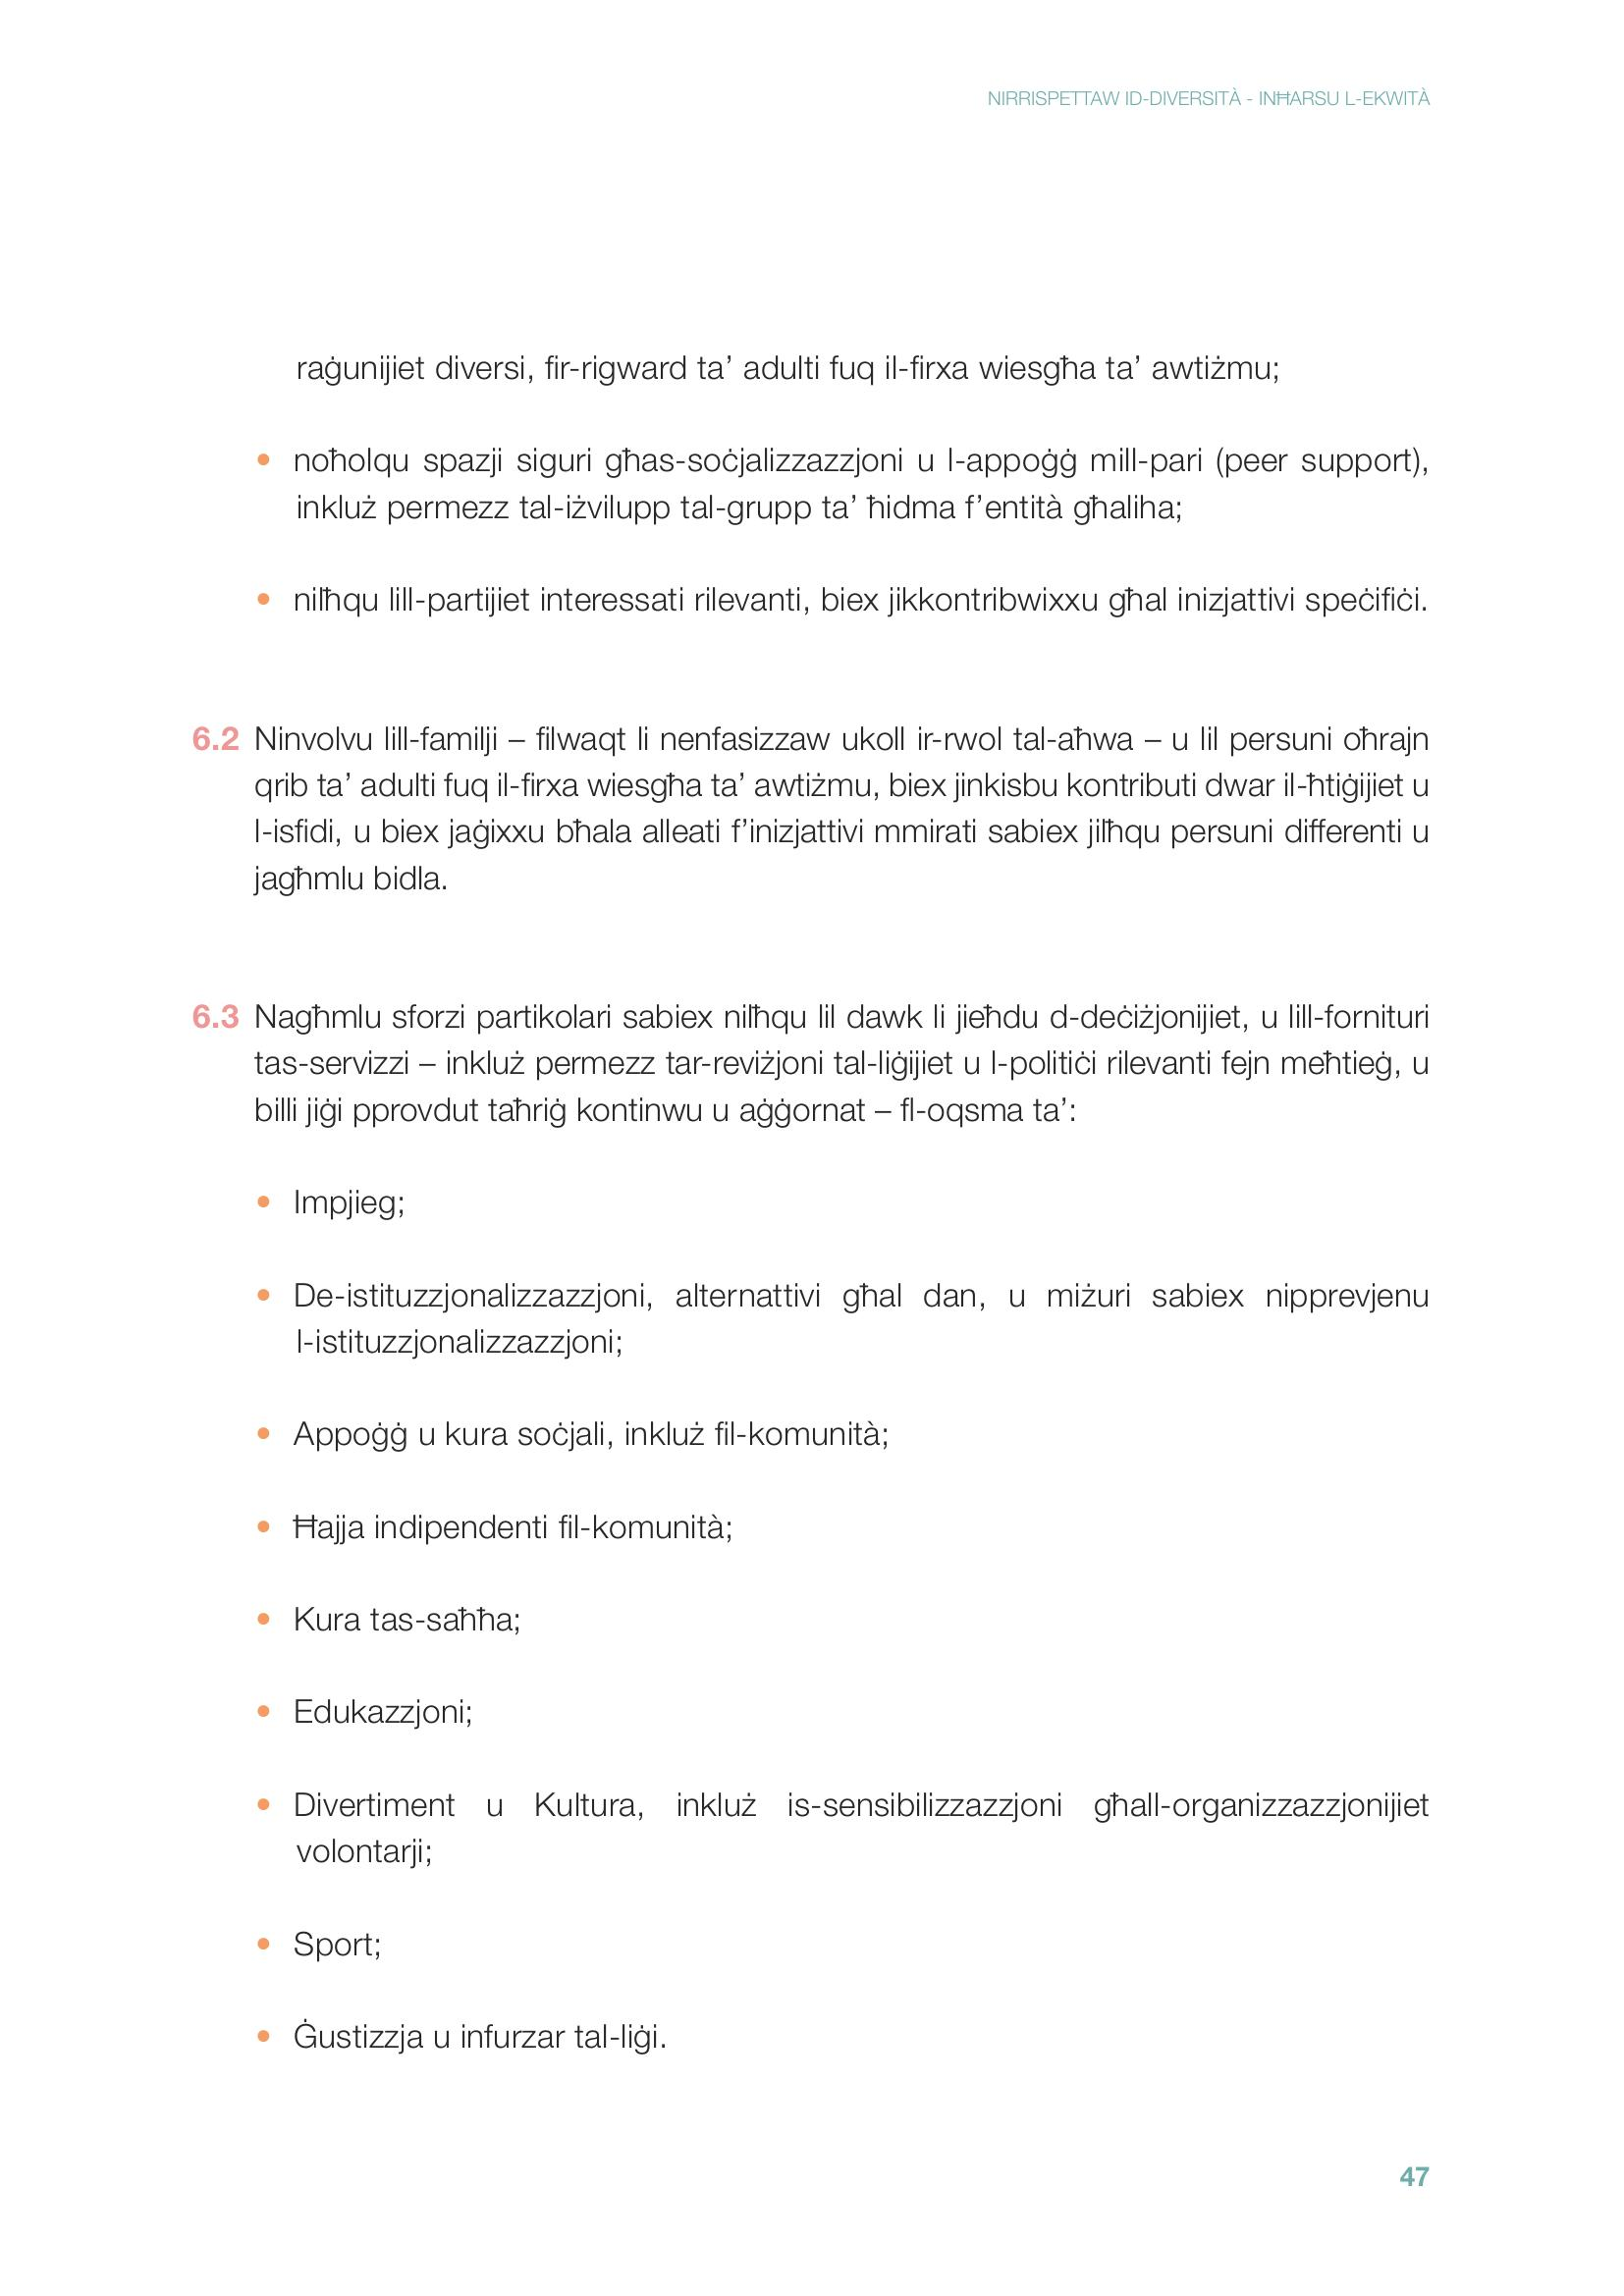text: (160, 334, 1455, 2089)
